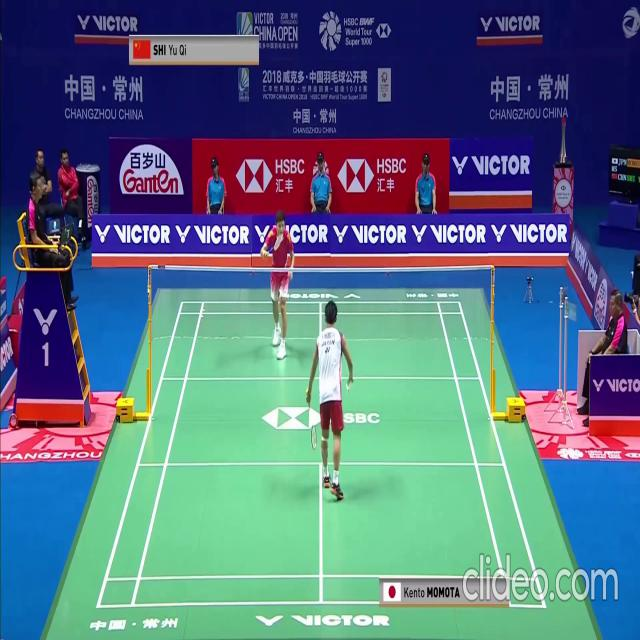Shuttlecock: (346, 387, 350, 394)
